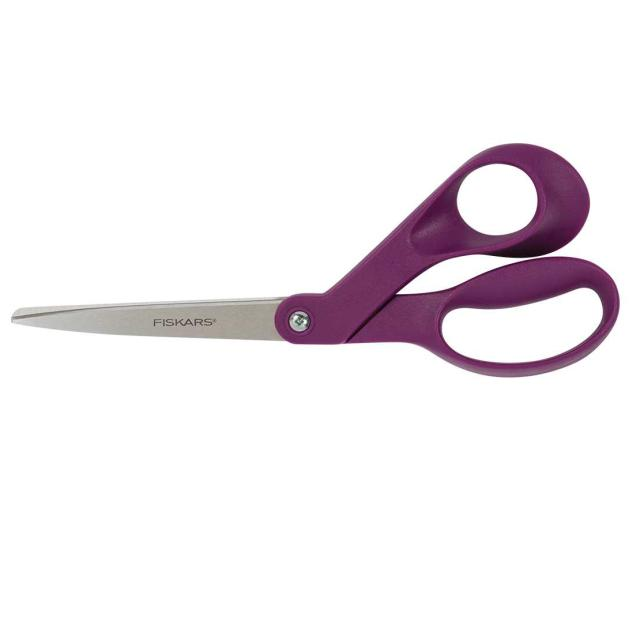scissor: (15, 137, 633, 381)
